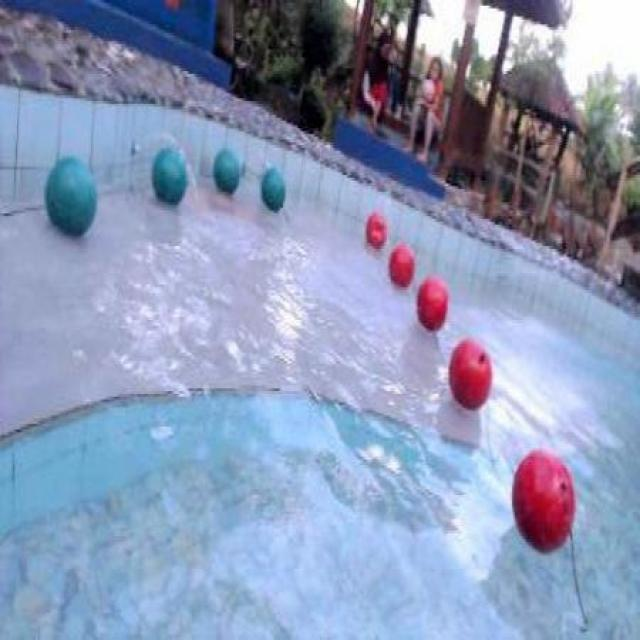buoy: (509, 448, 575, 552), (42, 154, 96, 234), (446, 338, 490, 412), (150, 142, 187, 202), (416, 273, 449, 329), (211, 144, 241, 194), (386, 242, 413, 288), (260, 163, 285, 210), (365, 206, 386, 248)
